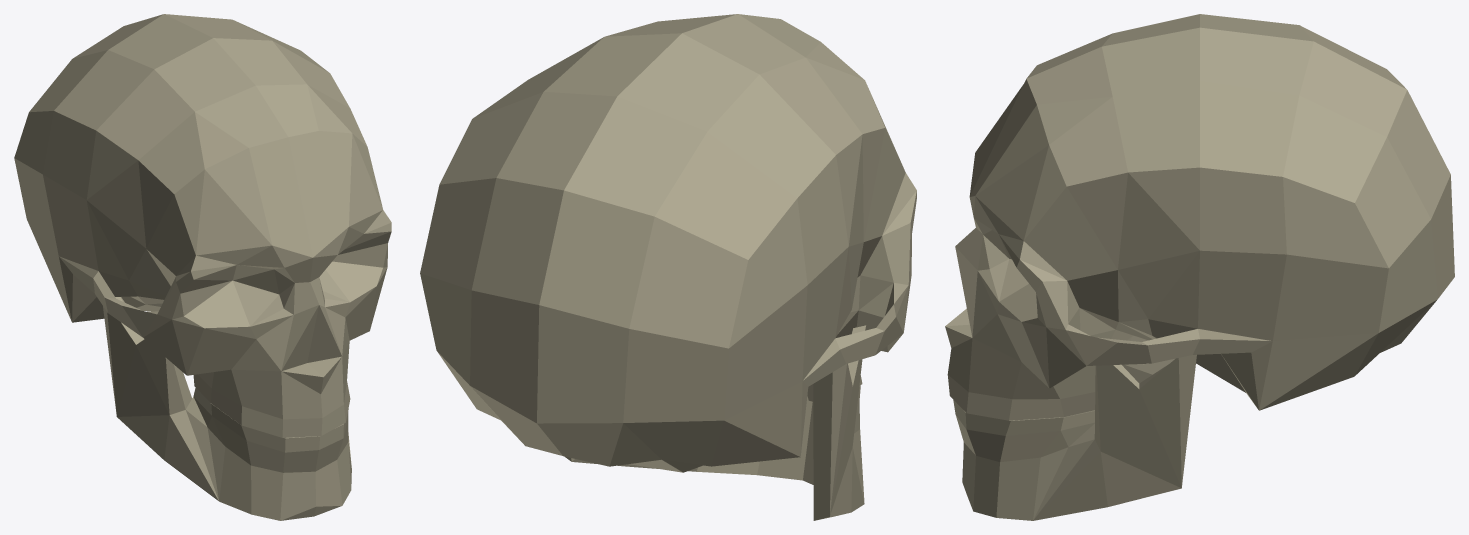
Rendered from Scull.fbx.
The picture shows the model from 3 angles, left to right: view 1: azimuth 30°, elevation 25°; view 2: azimuth 150°, elevation 25°; view 3: azimuth 270°, elevation 25°; orthographic projection. The views are drawn at different scales.
Parts seen in each view (by area): view 1: Cube; view 2: Cube; view 3: Cube.
Boxes of the visible parts, x1,y1,x2,y2 form: Cube: [14, 14, 391, 520]; Cube: [420, 14, 916, 520]; Cube: [945, 14, 1454, 520].
Size of the model in its own units: 136 by 199 by 195.
